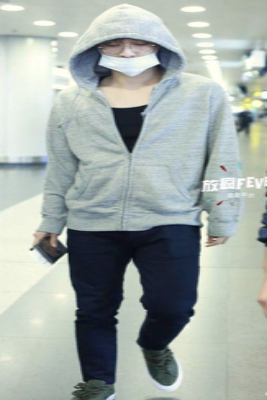mask_weared_incorrect: (96, 40, 162, 77)
